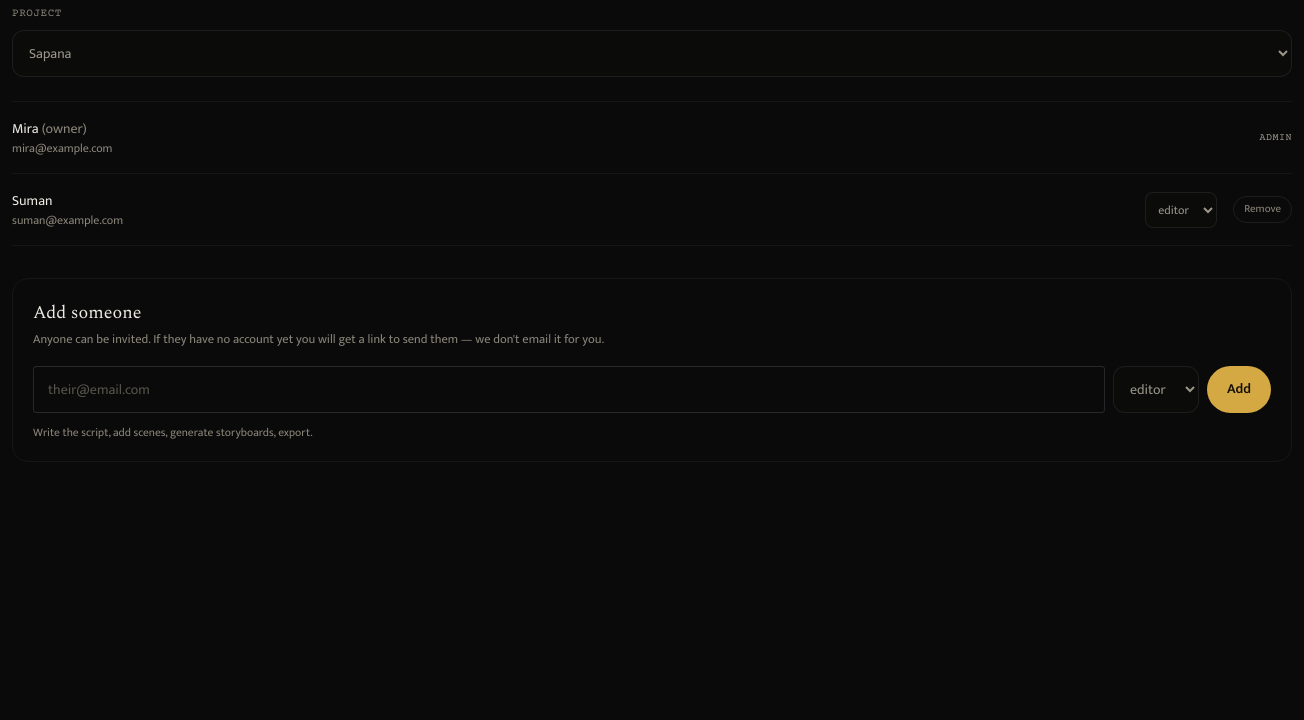
Scenario: adding someone › reports the server's refusal
Expected: the text "suman@example.com" is shown, [12,210,123,230]
Type "nobody@example.com" into the field labelled "email" at (569, 389), box [33,366,1105,413]
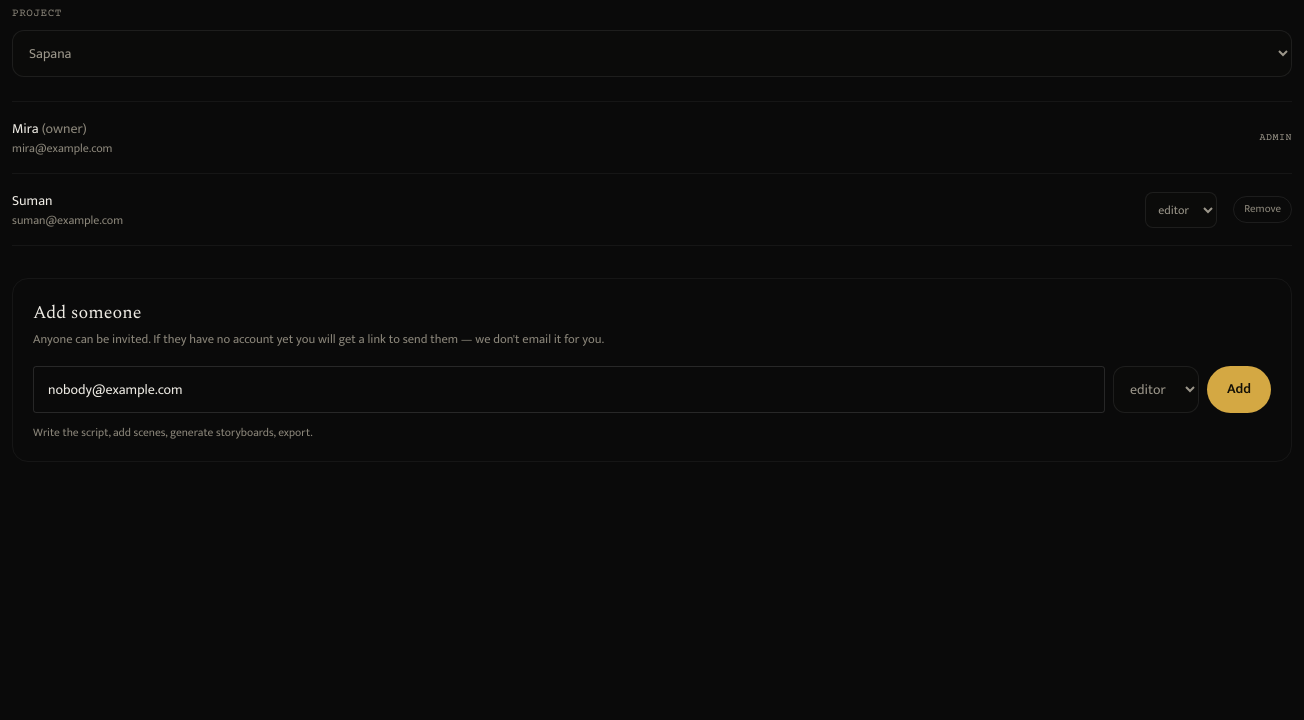
Click the button "Add" at (1239, 389), box [1207,366,1271,413]
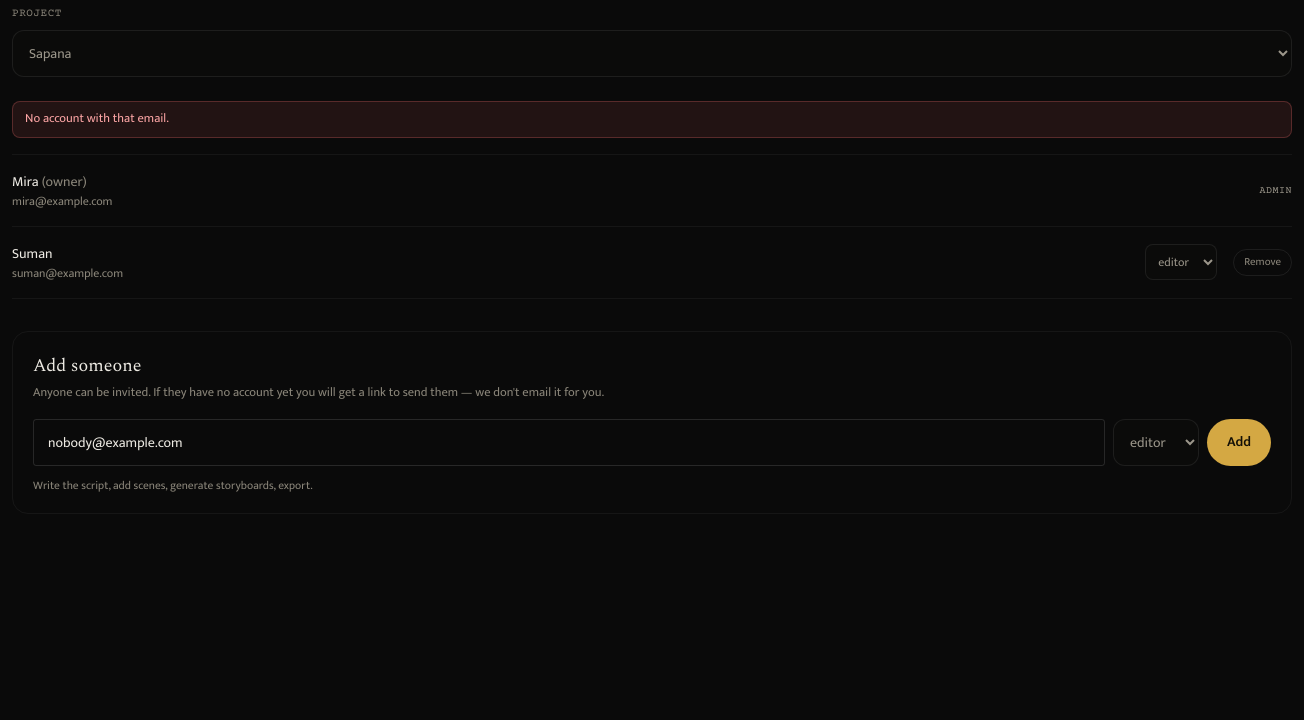
Expected: the text "No account with that email." is shown, [12,101,1292,138]
